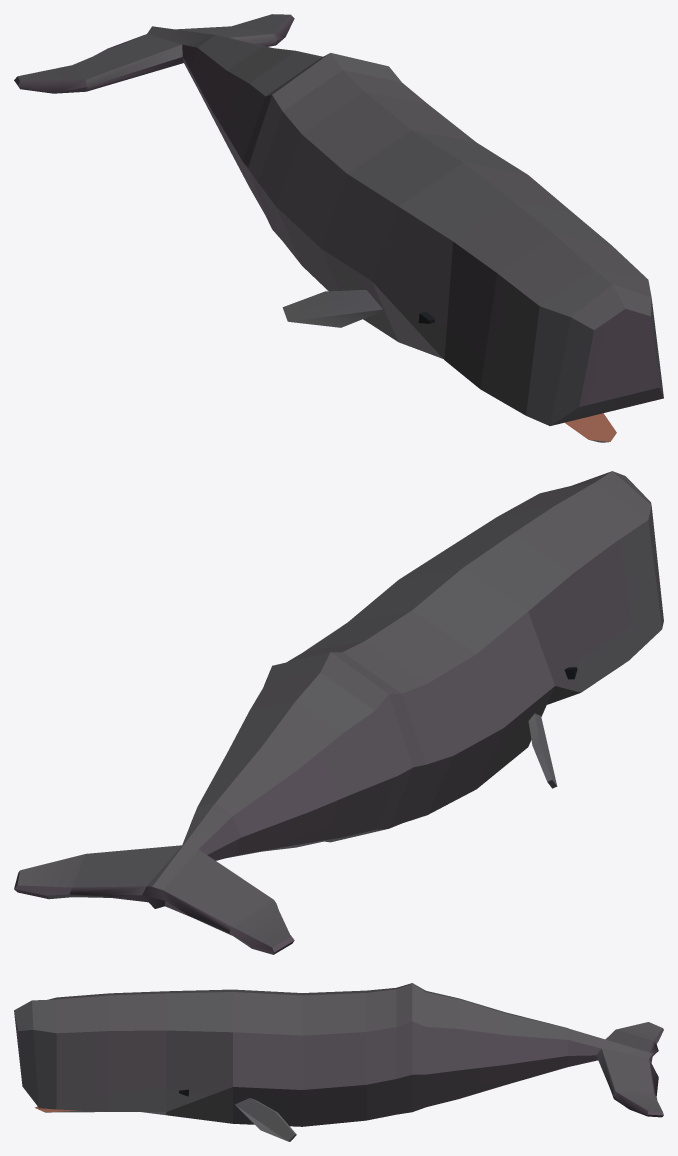
Rendered from animals-sperm-whale-192.glb.
The picture shows the model from 3 angles, top to bottom: view 1: azimuth 30°, elevation 25°; view 2: azimuth 150°, elevation 25°; view 3: azimuth 270°, elevation 25°; orthographic projection. The views are drawn at different scales.
Parts seen in each view (by area): view 1: Geo_SpermWhale; view 2: Geo_SpermWhale; view 3: Geo_SpermWhale.
Part boxes in pixels (box(x1,y1,x2,y2)): Geo_SpermWhale: box(14, 14, 663, 442); Geo_SpermWhale: box(14, 471, 663, 954); Geo_SpermWhale: box(14, 983, 663, 1141).
Bounding box in the file's own units: 219 × 159 × 662.
Materials: 1 (1 with a texture image).
